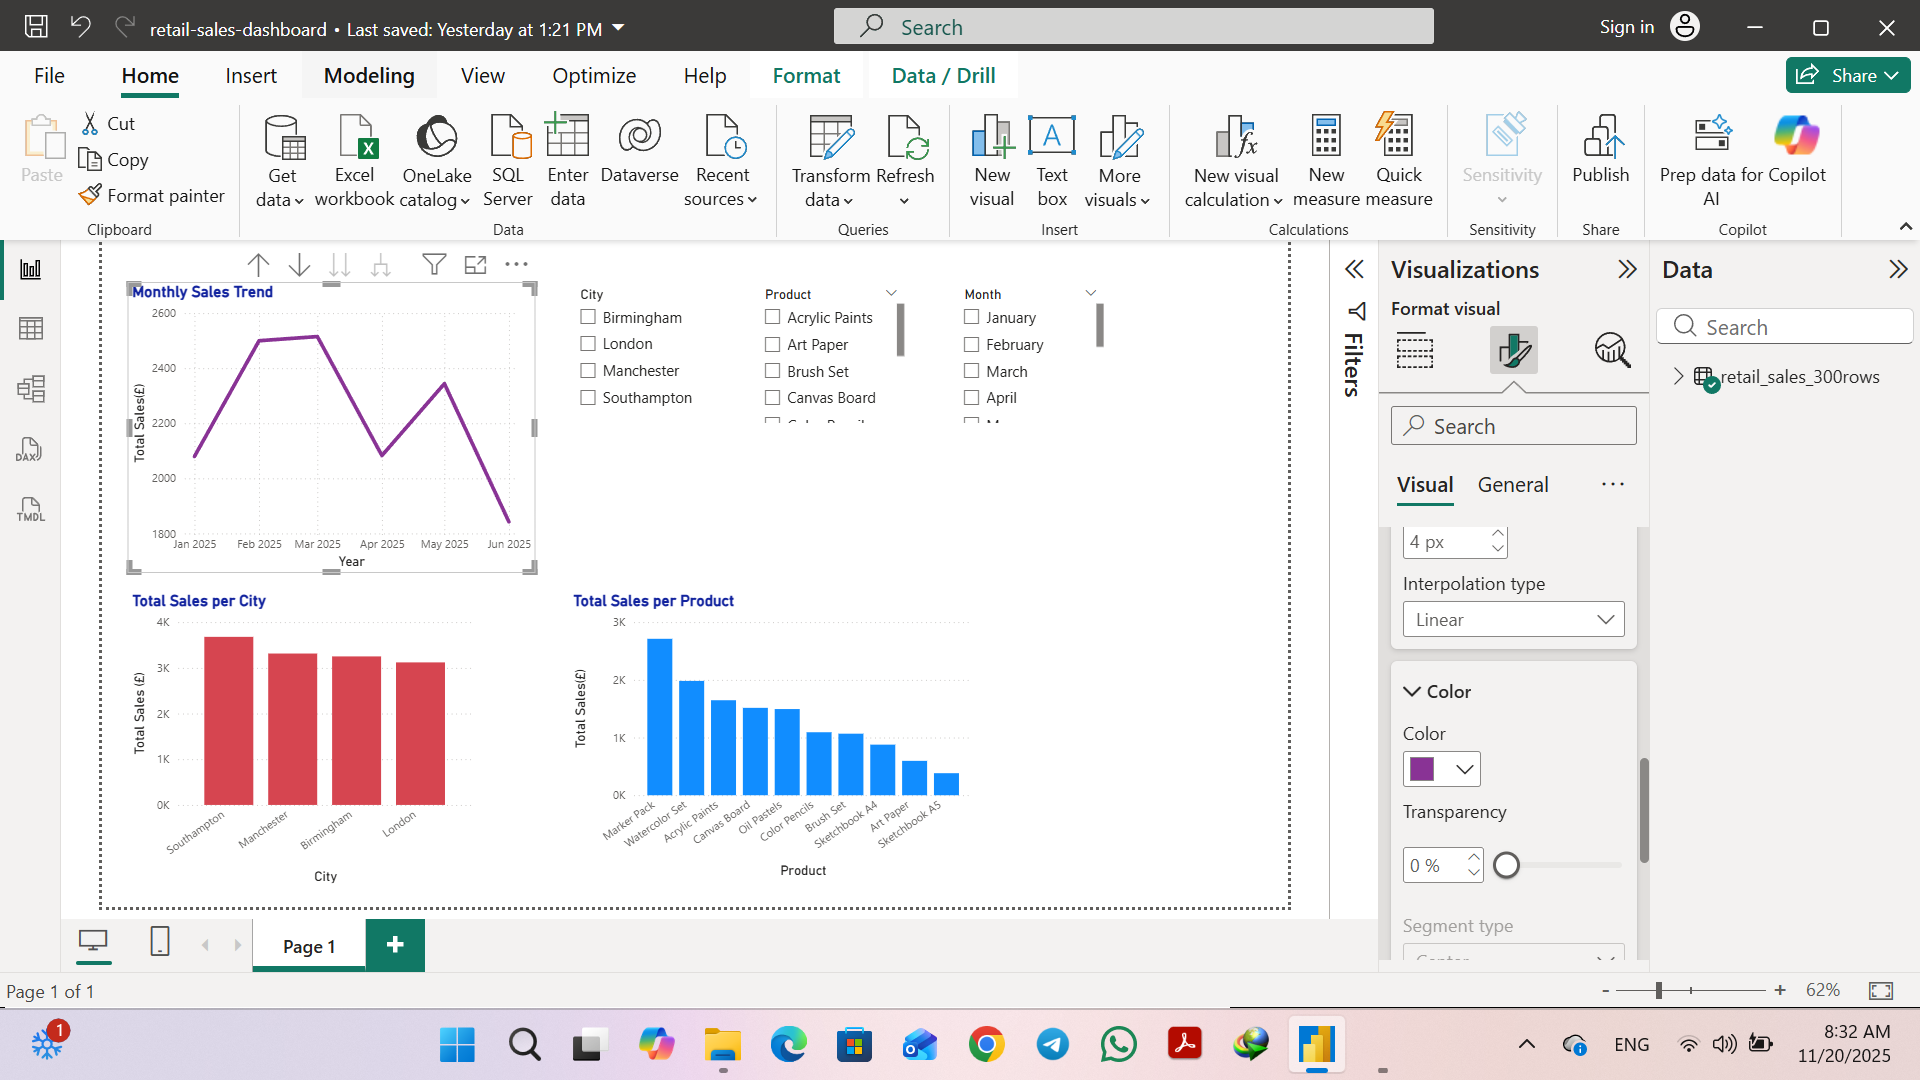

Layout of this report page (visuals, bound fields, positions):
{"tool":"powerbi","page":{"name":"Page 1","canvas":[1280,720],"ordinal":0},"visuals":[{"type":"clusteredColumnChart","title":"Total Sales per City","fields":{"Y":["Sum(retail_sales_300rows.TotalSales)"],"Category":["retail_sales_300rows.City"]},"box":[27.5,378.9,377.3,320.6],"z":0},{"type":"lineChart","title":"Monthly Sales Trend","fields":{"Y":["Sum(retail_sales_300rows.TotalSales)"],"Category":["retail_sales_300rows.Date.Variation.Date Hierarchy.Year","retail_sales_300rows.Date.Variation.Date Hierarchy.Month"]},"box":[27.5,45.3,440.4,314.1],"z":1000},{"type":"columnChart","title":"Total Sales per Product","fields":{"Y":["Sum(retail_sales_300rows.TotalSales)"],"Category":["retail_sales_300rows.Product"]},"box":[503.6,378.9,440.4,314.1],"z":1001},{"type":"slicer","fields":{"Values":["retail_sales_300rows.City"]},"box":[503.6,45.3,168.4,157.1],"z":1002},{"type":"slicer","fields":{"Values":["retail_sales_300rows.Product"]},"box":[702.7,45.3,168.4,157.1],"z":1003},{"type":"slicer","fields":{"Values":["retail_sales_300rows.Date.Variation.Date Hierarchy.Month"]},"box":[918.1,45.3,168.4,157.1],"z":1004}]}

Visuals, with their boxes on the page's 1280x720 design canvas (x1, y1, x2, y2). These are canvas units, not pixel positions in the 1920x1080 screenshot, which may show the page scaled, cropped or inside an application window:
"Total Sales per City" clusteredColumnChart: [x1=28, y1=379, x2=405, y2=700]
"Monthly Sales Trend" lineChart: [x1=28, y1=45, x2=468, y2=359]
"Total Sales per Product" columnChart: [x1=504, y1=379, x2=944, y2=693]
slicer - retail_sales_300rows.City: [x1=504, y1=45, x2=672, y2=202]
slicer - retail_sales_300rows.Product: [x1=703, y1=45, x2=871, y2=202]
slicer - retail_sales_300rows.Date.Variation.Date Hierarchy.Month: [x1=918, y1=45, x2=1086, y2=202]
